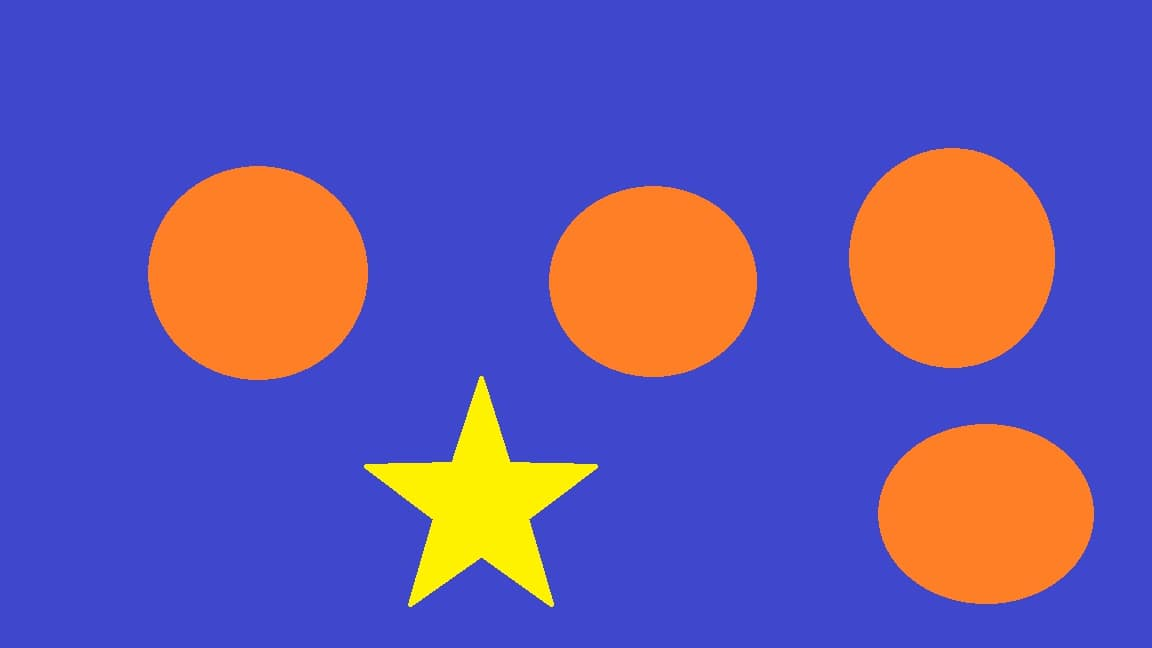Oval: (844, 143, 1056, 372), (148, 162, 365, 382), (545, 181, 754, 378), (875, 420, 1098, 604)
Star: (359, 376, 600, 611)
